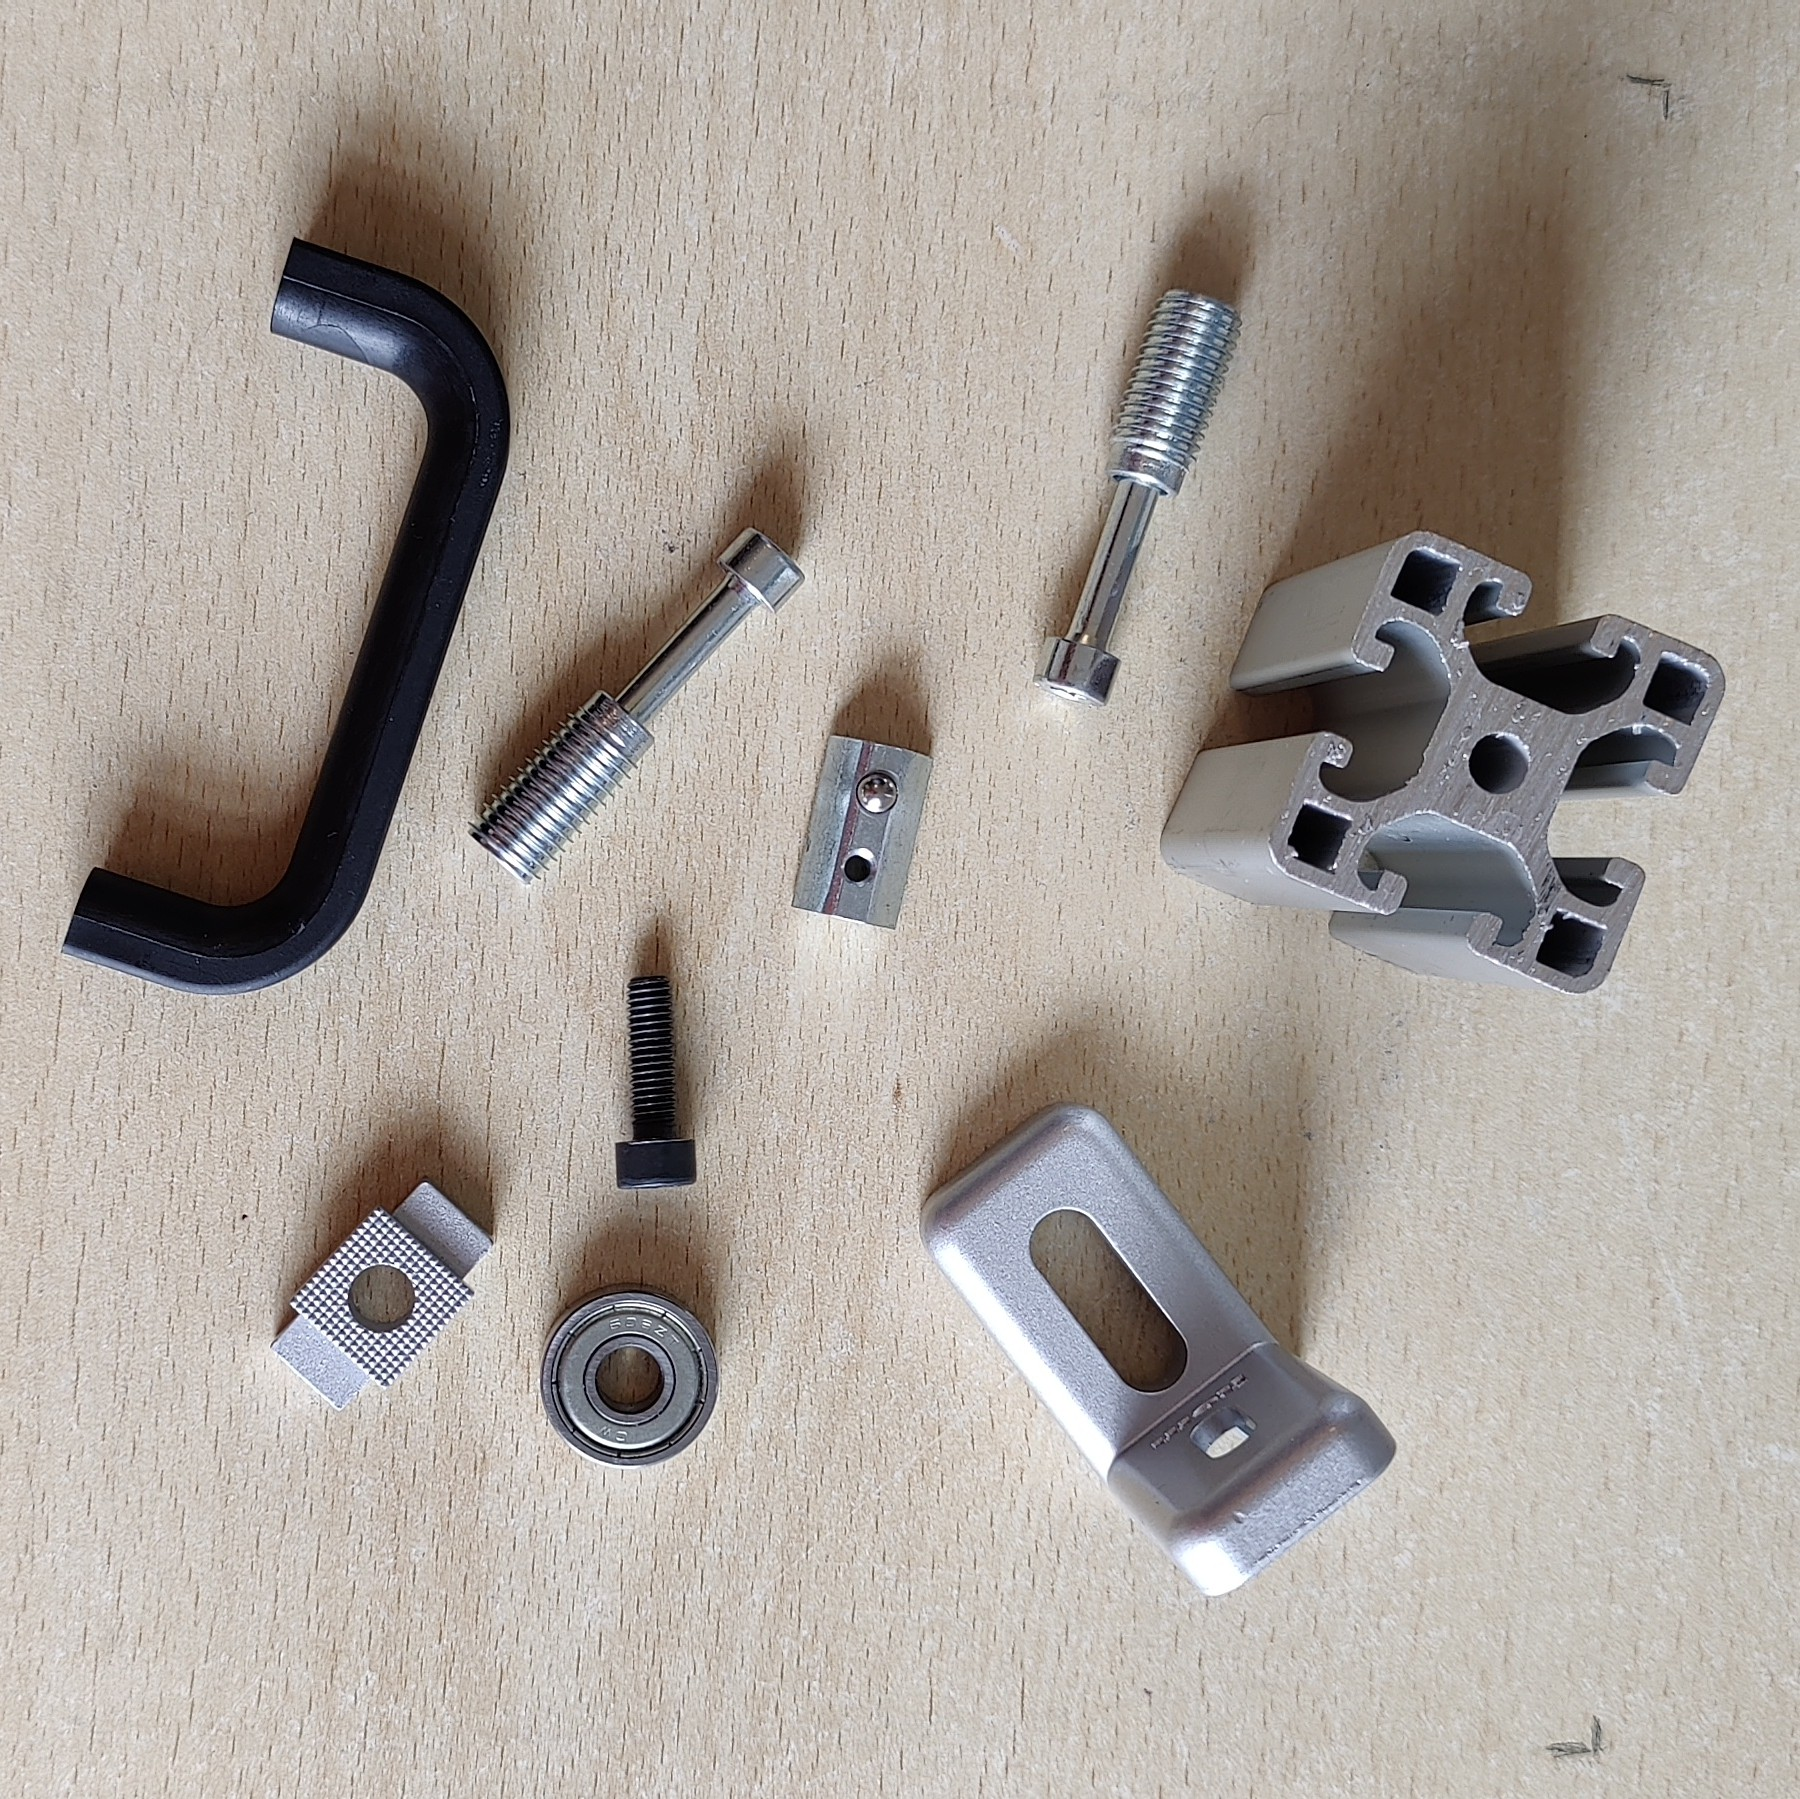Aluminium Extension: (1158, 527, 1728, 998)
Ball Bearing: (539, 1278, 720, 1471)
Multiwinkel: (919, 1100, 1398, 1600)
Pull Handle: (58, 234, 515, 998)
Shoulder Socket Head Cap Screw: (464, 522, 805, 888), (1028, 283, 1243, 710)
Socket Head Cap Screw: (611, 970, 700, 1193)
T Nut Square: (272, 1176, 496, 1410)
T Spring Nut: (789, 735, 935, 931)
